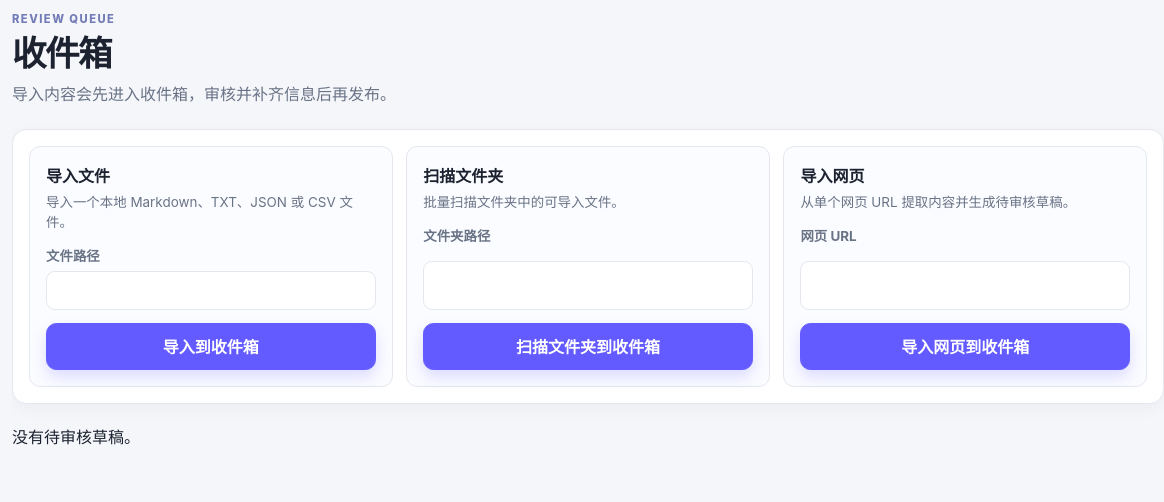
Test: InboxImport › scans a selected local folder into the inbox
Type "C:\\提示词" into the field labelled "文件夹路径" at (588, 286), box [423,261,753,310]
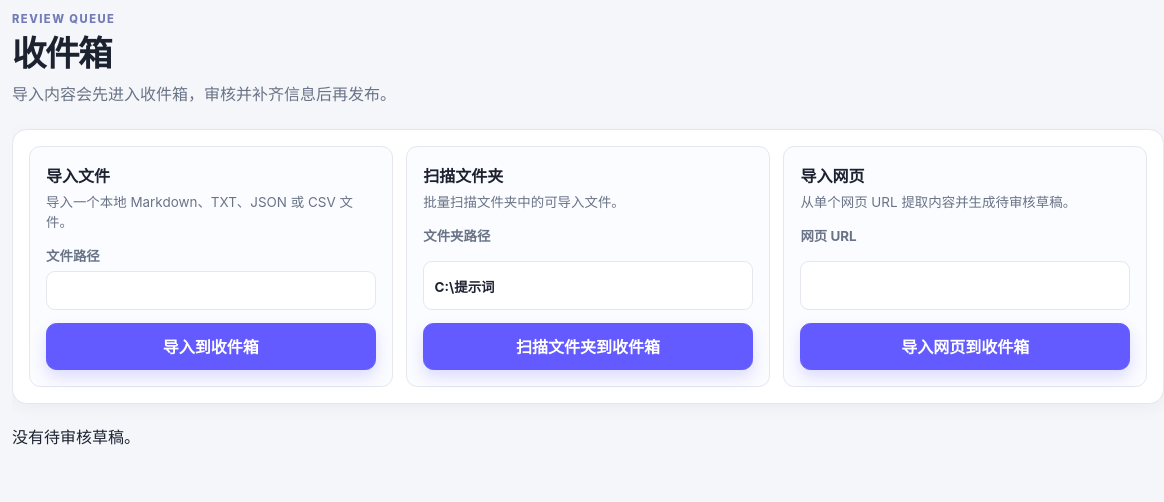
Click the button "扫描文件夹到收件箱" at (588, 346), box [423,323,753,370]
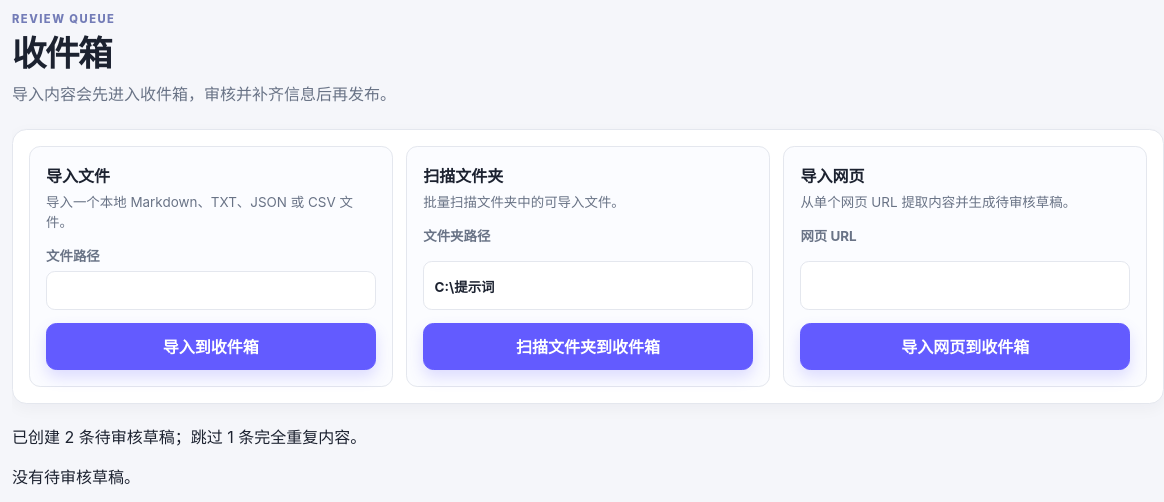
Check: the message shows "已创建 2 条待审核草稿", box [12,427,366,447]
